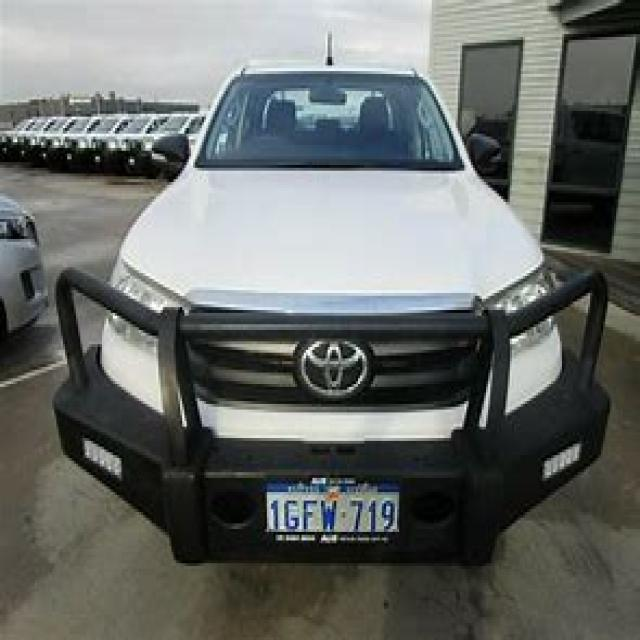light_vehicle: (50, 54, 614, 572)
